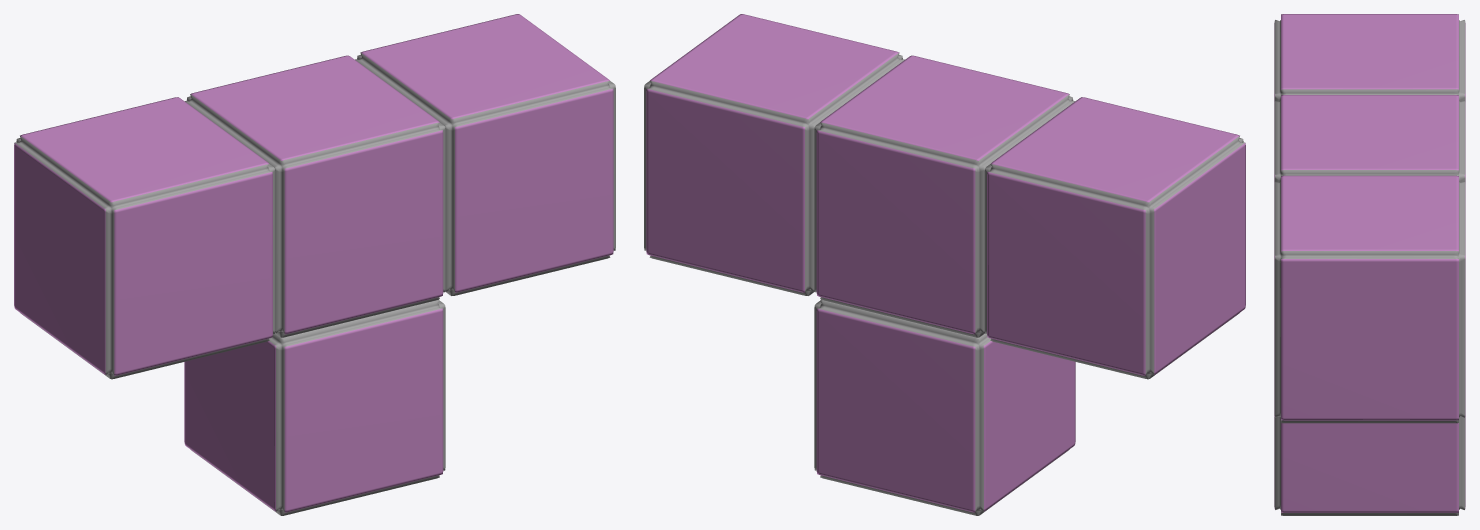
The model's file is purpleTetrinimous.fbx.
3 views of the same model, side by side, from view 1: azimuth 30°, elevation 25°; view 2: azimuth 150°, elevation 25°; view 3: azimuth 270°, elevation 25° (orthographic). The views are drawn at different scales.
Visible parts, largest first — view 1: purpleTetrinimous; view 2: purpleTetrinimous; view 3: purpleTetrinimous.
Boxes of the visible parts, left/top/right/bottom form: purpleTetrinimous: left=14, top=14, right=615, bottom=515; purpleTetrinimous: left=644, top=14, right=1245, bottom=515; purpleTetrinimous: left=1274, top=14, right=1465, bottom=515.
Size of the model in its own units: 3.03 by 2.02 by 1.01.
